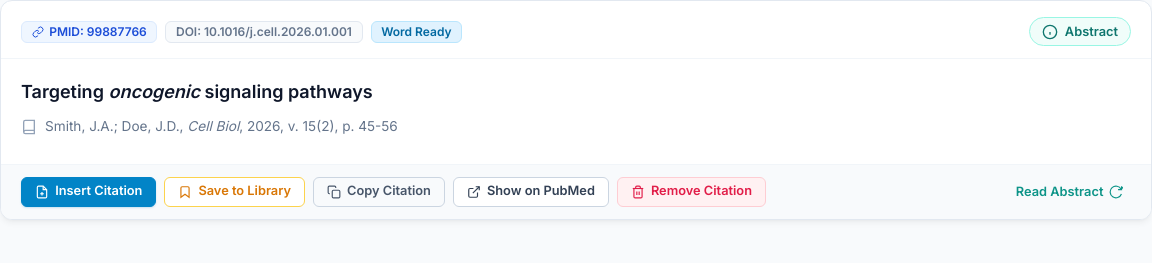
Scenario: PubmedCardComponent › should render remove citation button when showRemove is true
Click the 1st button with class "btn-danger".
click(691, 192)  # box [617, 177, 766, 207]
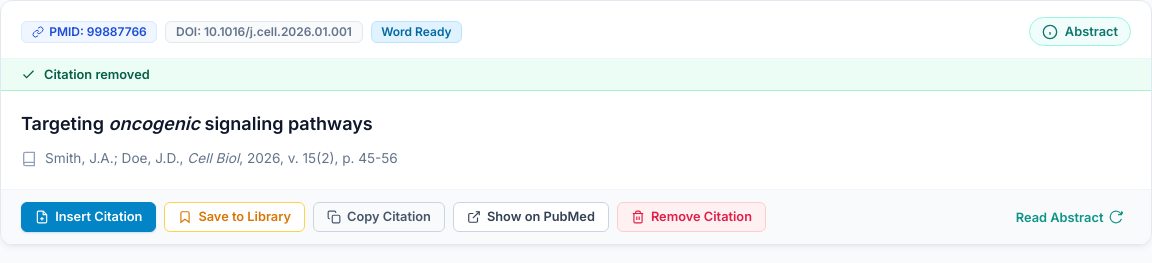
Expected: the text "Citation removed" is shown, [44, 67, 150, 82]
